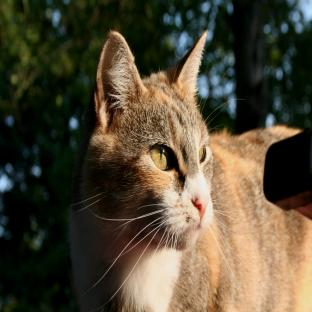Animal: (69, 31, 312, 312)
